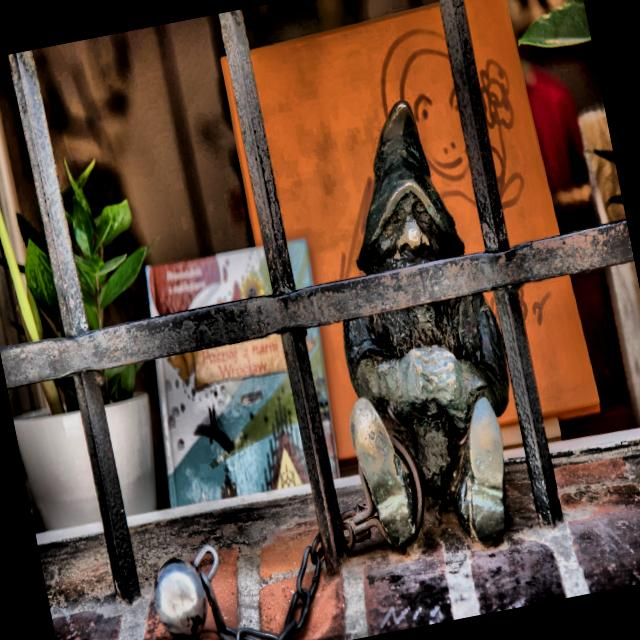Wiezien: (153, 103, 509, 640)
